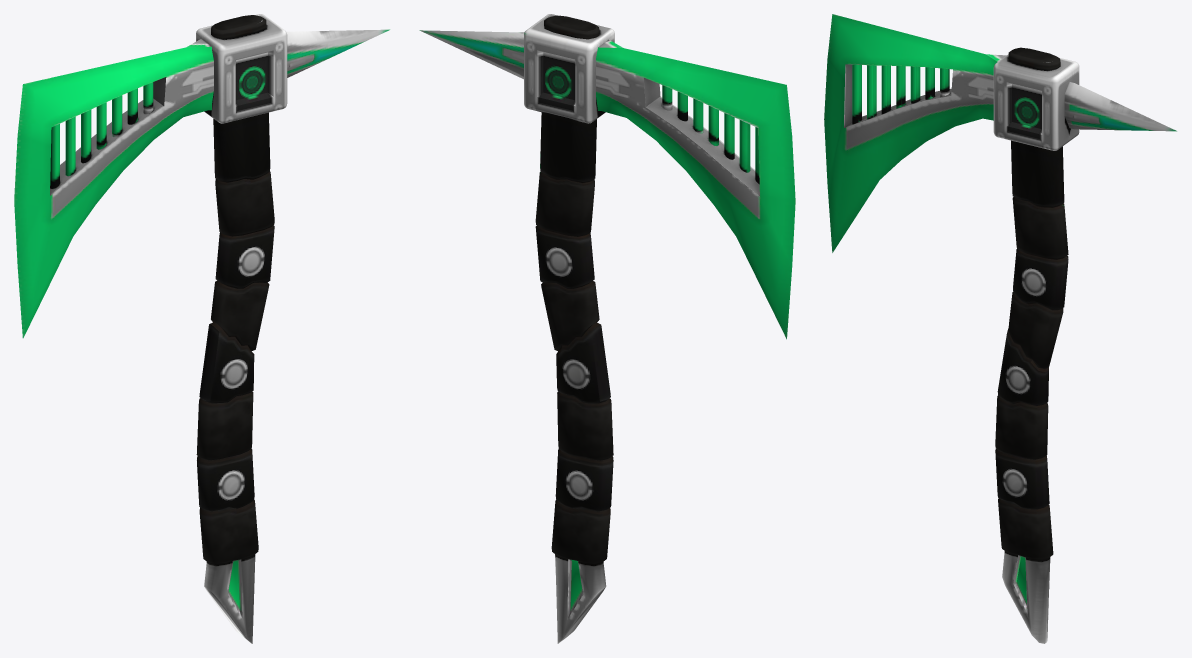
The model's file is AXE.FBX.
3 views of the same model, side by side, from view 1: azimuth 30°, elevation 25°; view 2: azimuth 150°, elevation 25°; view 3: azimuth 330°, elevation 25° (orthographic). The views are drawn at different scales.
Visible parts, largest first — view 1: AXE; view 2: AXE; view 3: AXE.
Boxes of the visible parts, x1,y1,x2,y2 form: AXE: (14,14,389,643); AXE: (419,14,795,643); AXE: (824,14,1176,643).
Bounding box in the file's own units: 224 × 354 × 27.
Materials: 1 (1 with a texture image).
